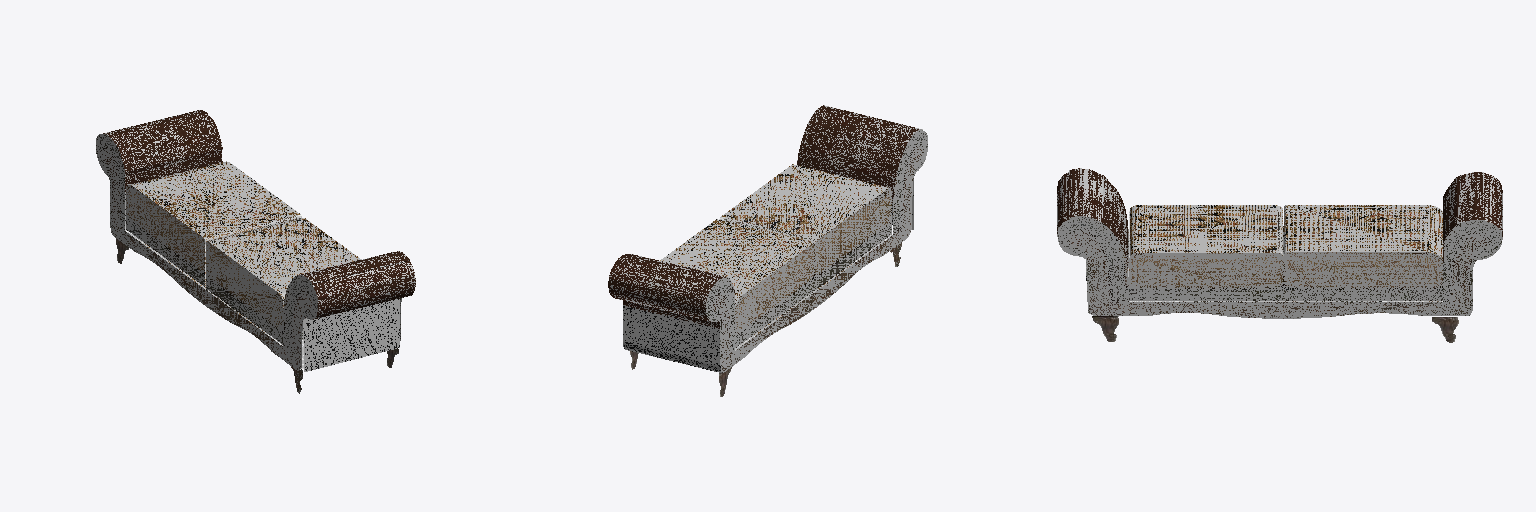
The picture shows the model from 3 angles: view 1: azimuth 30°, elevation 25°; view 2: azimuth 150°, elevation 25°; view 3: azimuth 270°, elevation 25°; orthographic projection.
Visible parts, largest first — view 1: mesh2_mesh2-geometry, mesh1_mesh1-geometry, mesh7_mesh7-geometry; view 2: mesh1_mesh1-geometry, mesh2_mesh2-geometry; view 3: mesh2_mesh2-geometry, mesh1_mesh1-geometry.
Boxes of the visible parts, box(x1,y1,x2,y2) form: mesh2_mesh2-geometry: box(126, 161, 361, 344); mesh1_mesh1-geometry: box(96, 110, 415, 370); mesh7_mesh7-geometry: box(304, 299, 399, 371); mesh1_mesh1-geometry: box(608, 105, 927, 372); mesh2_mesh2-geometry: box(660, 164, 891, 347); mesh2_mesh2-geometry: box(1129, 205, 1442, 300); mesh1_mesh1-geometry: box(1057, 168, 1502, 318).
Size of the model in its own units: 0.2361 by 0.2919 by 0.9269.
Materials: 91 (85 with a texture image).